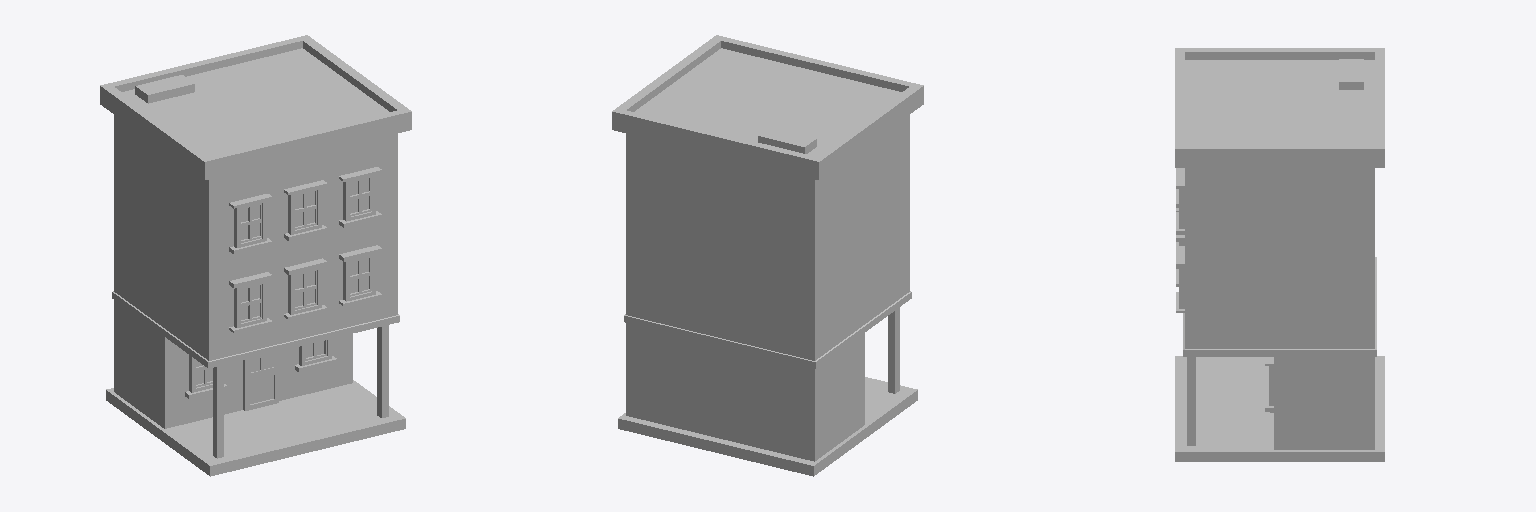
Rendered from Hotel.obj.
The picture shows the model from 3 angles: view 1: azimuth 30°, elevation 25°; view 2: azimuth 150°, elevation 25°; view 3: azimuth 270°, elevation 25°; orthographic projection.
Parts seen in each view (by area): view 1: Flat2_Cube.013; view 2: Flat2_Cube.013; view 3: Flat2_Cube.013.
Part boxes in pixels (x1,y1,x2,y2): Flat2_Cube.013: (100,35,411,476); Flat2_Cube.013: (612,35,923,476); Flat2_Cube.013: (1175,48,1384,461).
Size of the model in its own units: 2.17 by 3.17 by 1.89.